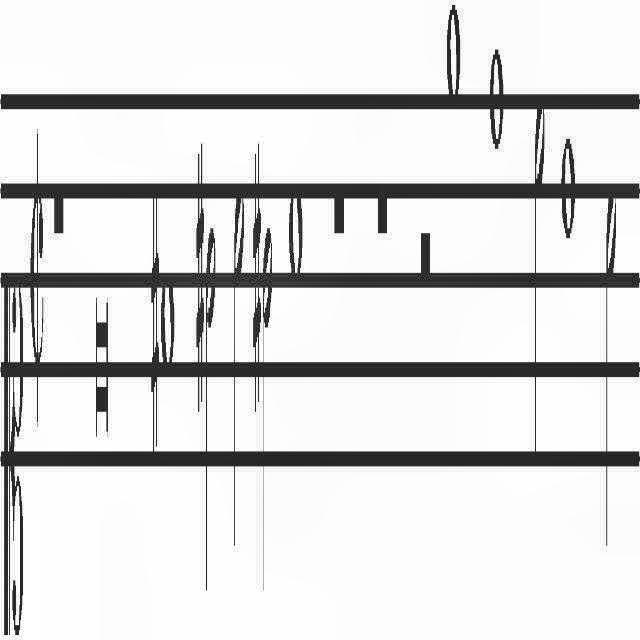Diez: (251, 133, 261, 431), (195, 133, 205, 423), (151, 183, 159, 462)
Full-note: (560, 126, 576, 244), (160, 266, 176, 378), (489, 43, 505, 154), (288, 180, 304, 286), (447, 1, 461, 108)
Half-note: (232, 187, 248, 565), (606, 183, 618, 565), (534, 84, 546, 462), (262, 221, 274, 599), (206, 221, 217, 599)
